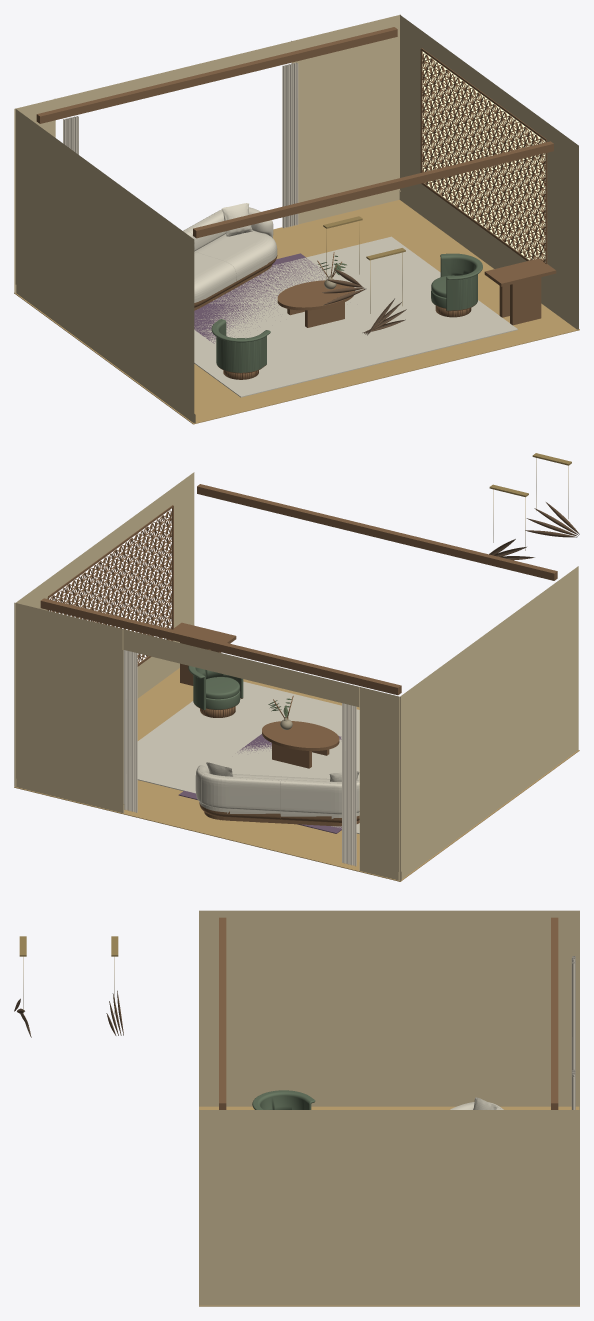
File: great-2.glb
The picture shows the model from 3 angles, top to bottom: view 1: azimuth 30°, elevation 25°; view 2: azimuth 150°, elevation 25°; view 3: azimuth 270°, elevation 25°; orthographic projection. The views are drawn at different scales.
Visible parts, largest first — view 1: DESIGN | great removable wall finish, DESIGN | Great room primary ground, DESIGN | great floor finish, DESIGN | Kumiko | Long luminous room backdrop, DESIGN | Long luminous room backdrop diffuse backing, DESIGN | Great room sofa facing conversation, DESIGN | Garden salon perimeter timber.001, DESIGN | Garden salon perimeter timber, DESIGN | Secondary occupied textile field, DESIGN | Great room soft window edge.001, DESIGN | Required Bellustar swivel chair one, DESIGN | Required Bellustar swivel chair two (+5 smaller); view 2: DESIGN | great removable wall finish, DESIGN | Great room primary ground, DESIGN | great floor finish, DESIGN | Kumiko | Long luminous room backdrop, DESIGN | Great room sofa facing conversation, DESIGN | Long luminous room backdrop diffuse backing, DESIGN | Garden salon perimeter timber.001, DESIGN | Garden salon perimeter timber, DESIGN | Great room soft window edge, DESIGN | Great room soft window edge.001, DESIGN | Required Bellustar swivel chair one, DESIGN | Great room conversation table top (+4 smaller); view 3: DESIGN | great removable wall finish, DESIGN | great floor finish, DESIGN | Garden salon perimeter timber, DESIGN | Garden salon perimeter timber.001, DESIGN | Required Bellustar swivel chair two, DESIGN | Great room soft window edge.
Boxes of the visible parts, box(x1,y1,x2,y2) form: DESIGN | great removable wall finish: box(14, 14, 578, 423); DESIGN | Great room primary ground: box(194, 236, 517, 397); DESIGN | great floor finish: box(14, 200, 579, 424); DESIGN | Kumiko | Long luminous room backdrop: box(420, 48, 547, 264); DESIGN | Long luminous room backdrop diffuse backing: box(422, 51, 545, 262); DESIGN | Great room sofa facing conversation: box(183, 203, 277, 310); DESIGN | Garden salon perimeter timber.001: box(36, 27, 397, 123); DESIGN | Garden salon perimeter timber: box(193, 141, 553, 238); DESIGN | Secondary occupied textile field: box(194, 253, 327, 343); DESIGN | Great room soft window edge.001: box(282, 62, 298, 228); DESIGN | Required Bellustar swivel chair one: box(431, 253, 482, 317); DESIGN | Required Bellustar swivel chair two: box(211, 319, 270, 379); DESIGN | great removable wall finish: box(14, 472, 578, 880); DESIGN | Great room primary ground: box(137, 681, 359, 833); DESIGN | great floor finish: box(14, 668, 579, 881); DESIGN | Kumiko | Long luminous room backdrop: box(47, 505, 173, 666); DESIGN | Great room sofa facing conversation: box(195, 762, 359, 826); DESIGN | Long luminous room backdrop diffuse backing: box(49, 508, 171, 662); DESIGN | Garden salon perimeter timber.001: box(40, 598, 401, 695); DESIGN | Garden salon perimeter timber: box(197, 484, 557, 580); DESIGN | Great room soft window edge: box(342, 703, 356, 866); DESIGN | Great room soft window edge.001: box(123, 650, 137, 812); DESIGN | Required Bellustar swivel chair one: box(188, 666, 243, 717); DESIGN | Great room conversation table top: box(262, 721, 339, 750); DESIGN | great removable wall finish: box(199, 910, 579, 1305); DESIGN | great floor finish: box(199, 1106, 579, 1306); DESIGN | Garden salon perimeter timber: box(219, 917, 226, 1109); DESIGN | Garden salon perimeter timber.001: box(551, 917, 558, 1109); DESIGN | Required Bellustar swivel chair two: box(252, 1090, 315, 1109); DESIGN | Great room soft window edge: box(571, 956, 575, 1070).
Size of the model in its own units: 6 by 3.04 by 7.16.
